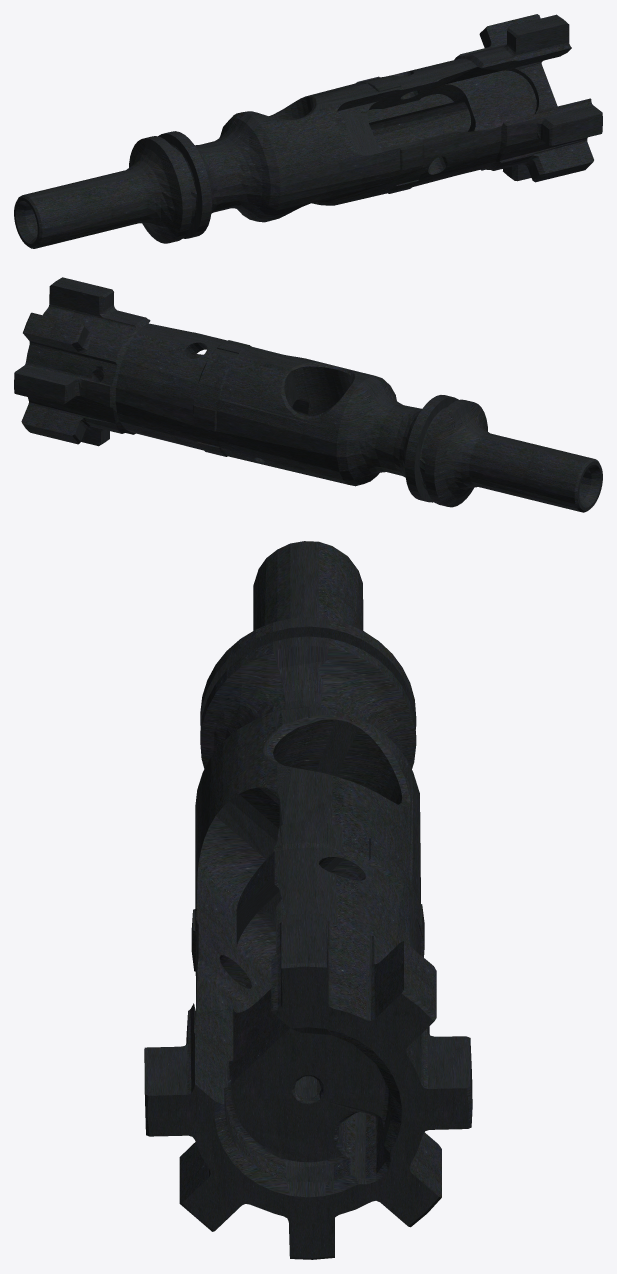
File: Bolt.dae
3 views of the same model, one above another, from view 1: azimuth 30°, elevation 25°; view 2: azimuth 150°, elevation 25°; view 3: azimuth 270°, elevation 25° (orthographic). The views are drawn at different scales.
Parts seen in each view (by area): view 1: Bolt; view 2: Bolt; view 3: Bolt.
Part boxes in pixels (x1=…): Bolt: x1=14, y1=14, x2=602, y2=248; Bolt: x1=14, y1=277, x2=602, y2=512; Bolt: x1=144, y1=541, x2=472, y2=1259.
Bounding box in the file's own units: 0.0692 × 0.0184 × 0.0184.
1 material, 1 textured.
